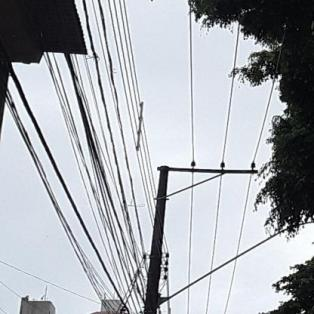Poste: (138, 165, 177, 314)
